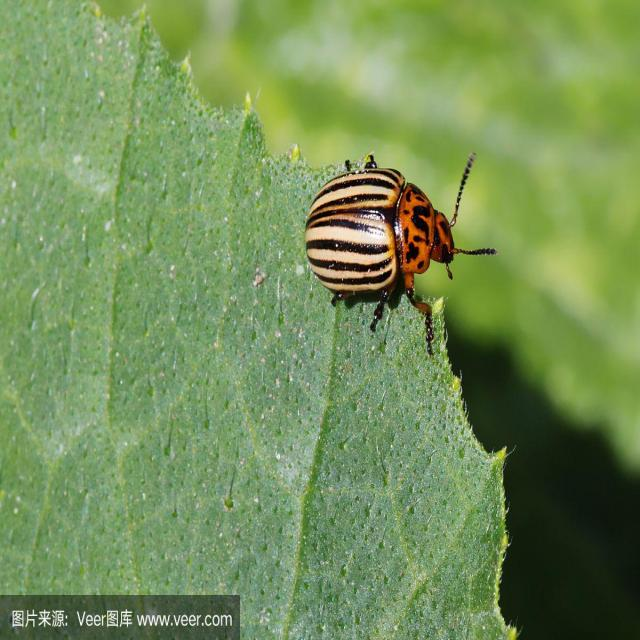ShuCaiHuaBanChong-Grown-: (287, 150, 480, 314)
